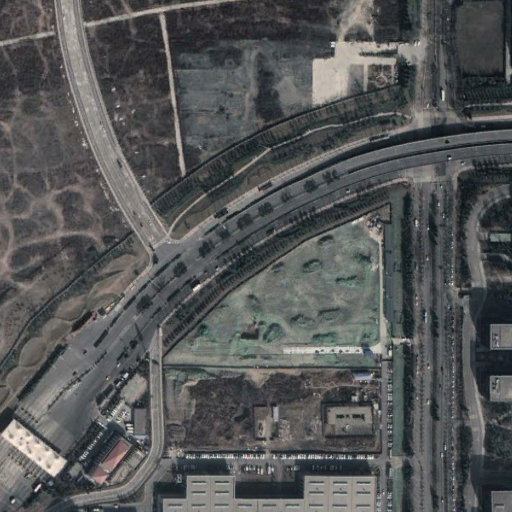cw: (158, 217, 387, 369), (175, 34, 333, 158)
